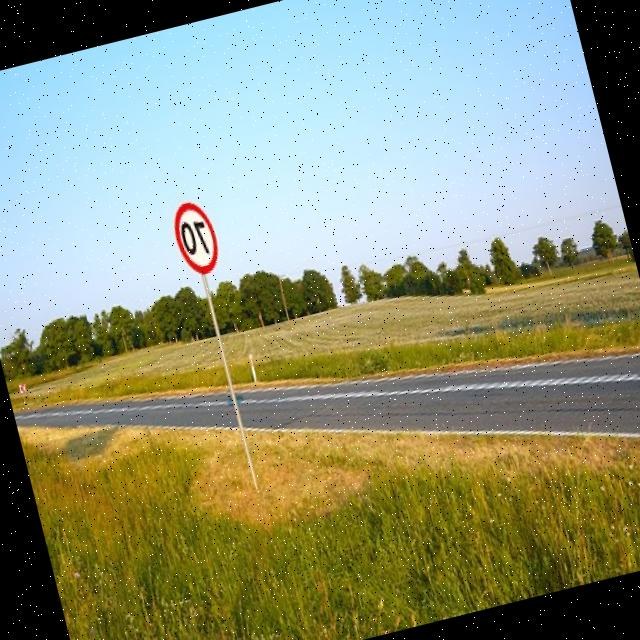speed_limit_70: (161, 190, 228, 288)
